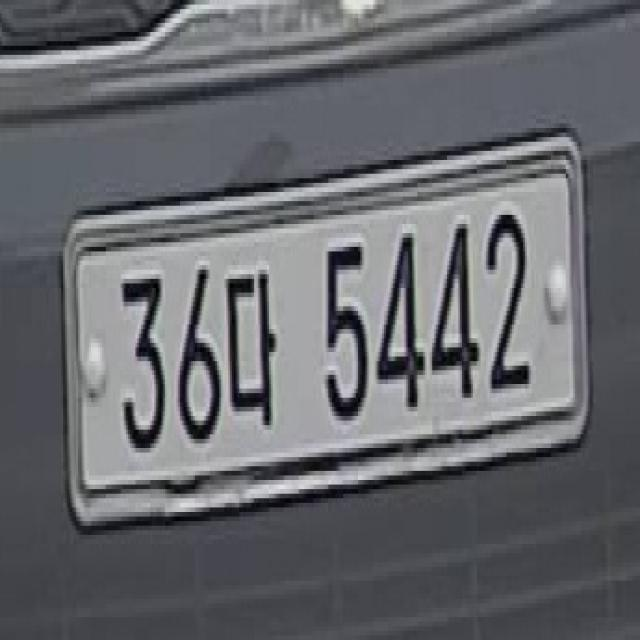2: (482, 205, 532, 398)
3: (121, 270, 167, 457)
4: (426, 215, 481, 398), (373, 228, 427, 412)
5: (323, 233, 371, 425)
6: (175, 260, 222, 452)
da: (224, 256, 278, 434)
license_plate: (63, 128, 592, 494)
